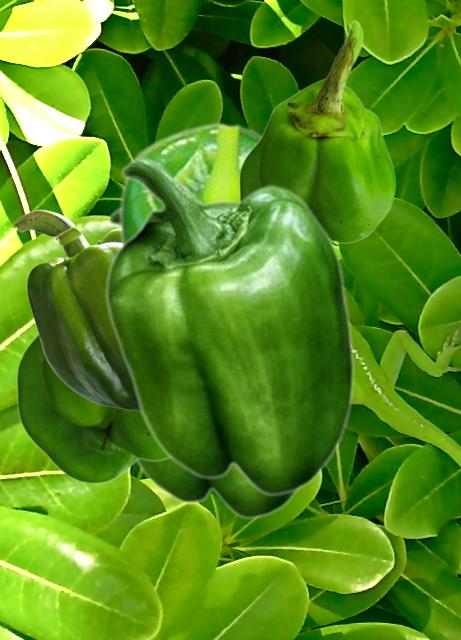bell_pepper: (104, 157, 355, 496), (104, 207, 302, 519), (238, 19, 395, 244), (12, 209, 137, 411), (15, 333, 168, 483), (117, 121, 262, 246)
